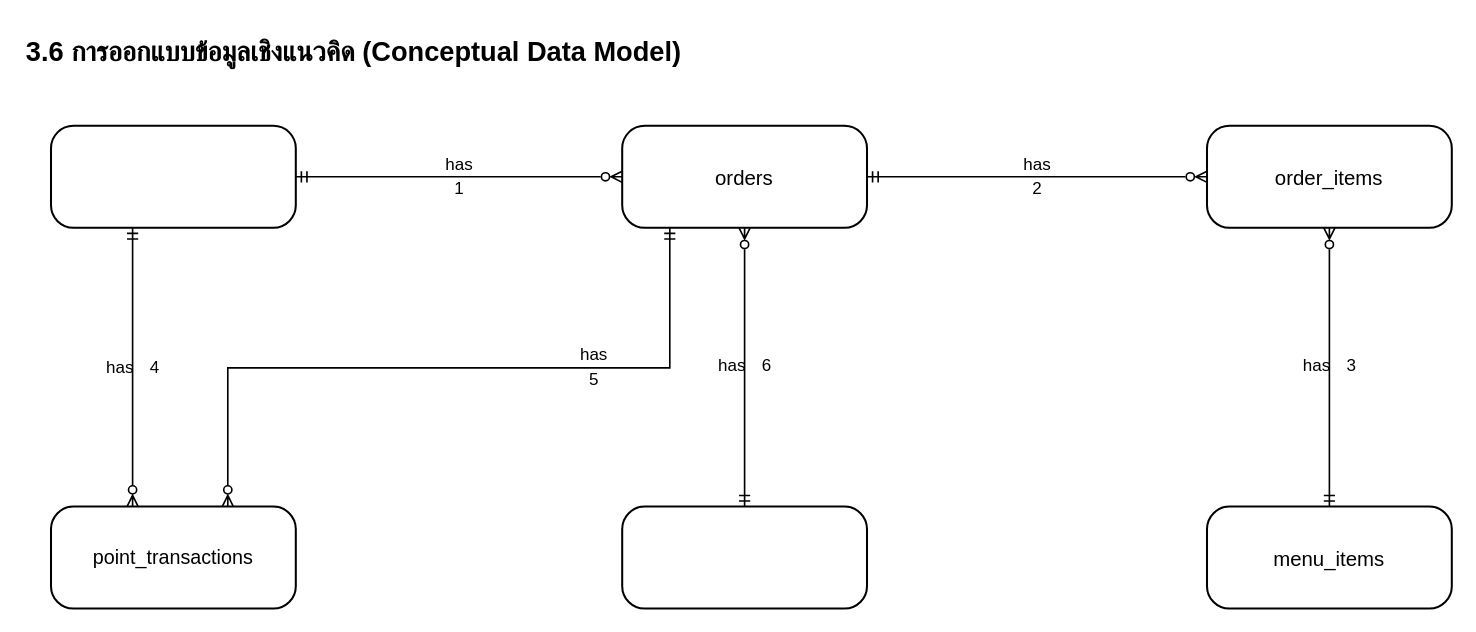
Image size: 1476x632. Some labels were removed from this diagram. The centre of each missing label's shape, as x and y in pixels:
"daily_closings" belongs at (x=744, y=557).
"user" belongs at (x=172, y=176).
